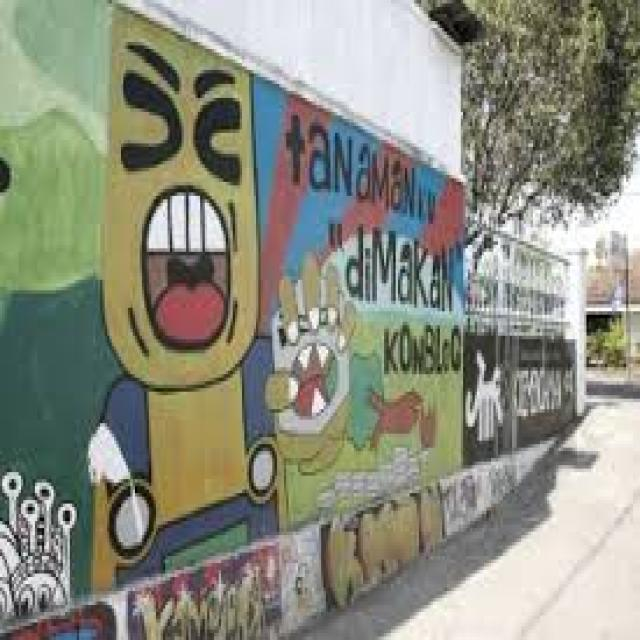-: (0, 0, 461, 616), (124, 547, 278, 640), (465, 333, 583, 448)
